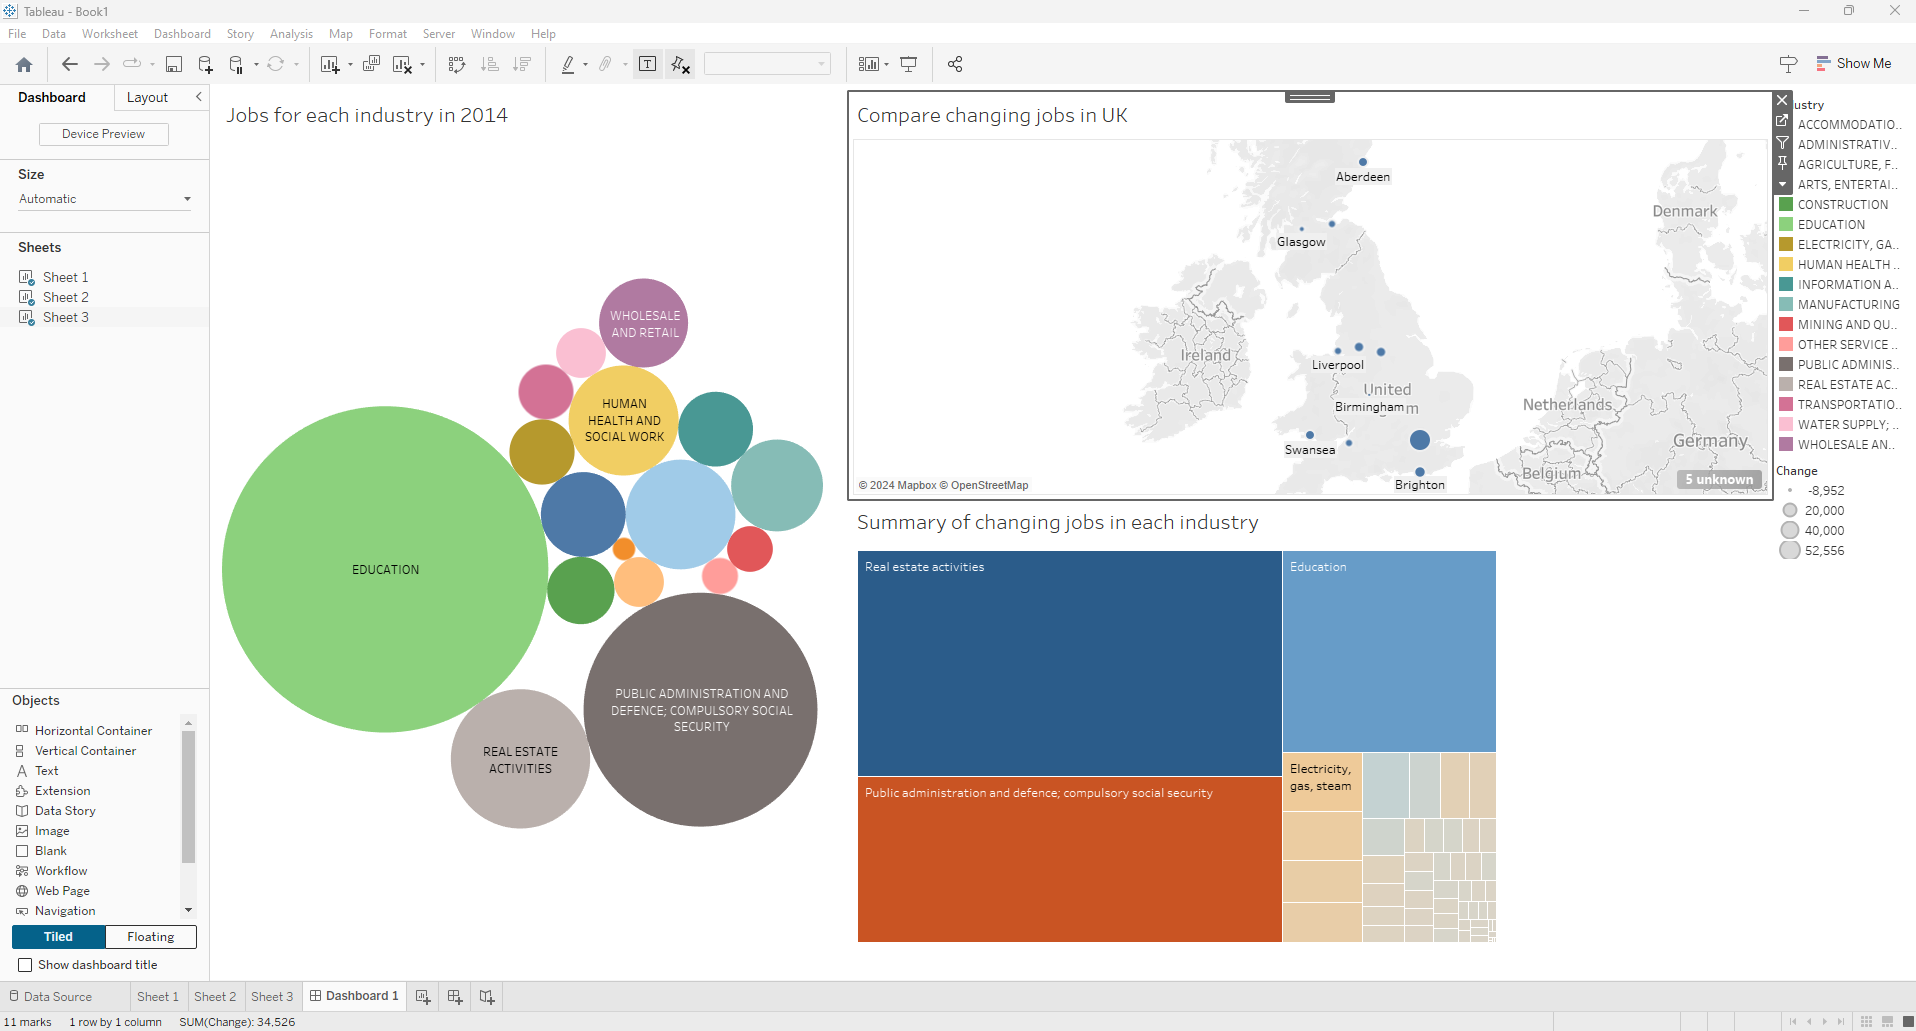

This screenshot's page, from the dashboard's own definition file:
{"tool":"tableau","page":{"name":"Dashboard 1","canvas":[1000,1000],"units":"permille","ordinal":0},"visuals":[{"type":"worksheet","title":"Sheet 1","mark":"Circle","box":[4.7,8.9,337.6,491.1]},{"type":"worksheet","title":"Sheet 3","mark":"Automatic","box":[342.2,8.9,571.8,491.1]},{"type":"legend","title":"Sheet 1","param":"[federated.0ewojct1ykgmdy197s0r21aqspv5].[none:Industry:nk]","box":[914,8.9,81.3,408.5]},{"type":"legend","title":"Sheet 3","param":"[federated.0ewojct1ykgmdy197s0r21aqspv5].[sum:Change:qk]","box":[914,417.4,81.3,118.3]},{"type":"worksheet","title":"Sheet 2","mark":"Automatic","box":[4.7,500,909.3,491.1]}]}

Visuals, with their boxes on the dashboard's canvas, which has no fixed pixel size, in thousandths of its width and height (x1, y1, x2, y2). These are canvas units, not pixel positions in the 1916x1031 screenshot, which may show the page scaled, cropped or inside an application window:
"Sheet 1" worksheet (Circle marks): l=5, t=9, r=342, b=500
"Sheet 3" worksheet: l=342, t=9, r=914, b=500
"Sheet 1" legend: l=914, t=9, r=995, b=417
"Sheet 3" legend: l=914, t=417, r=995, b=536
"Sheet 2" worksheet: l=5, t=500, r=914, b=991
